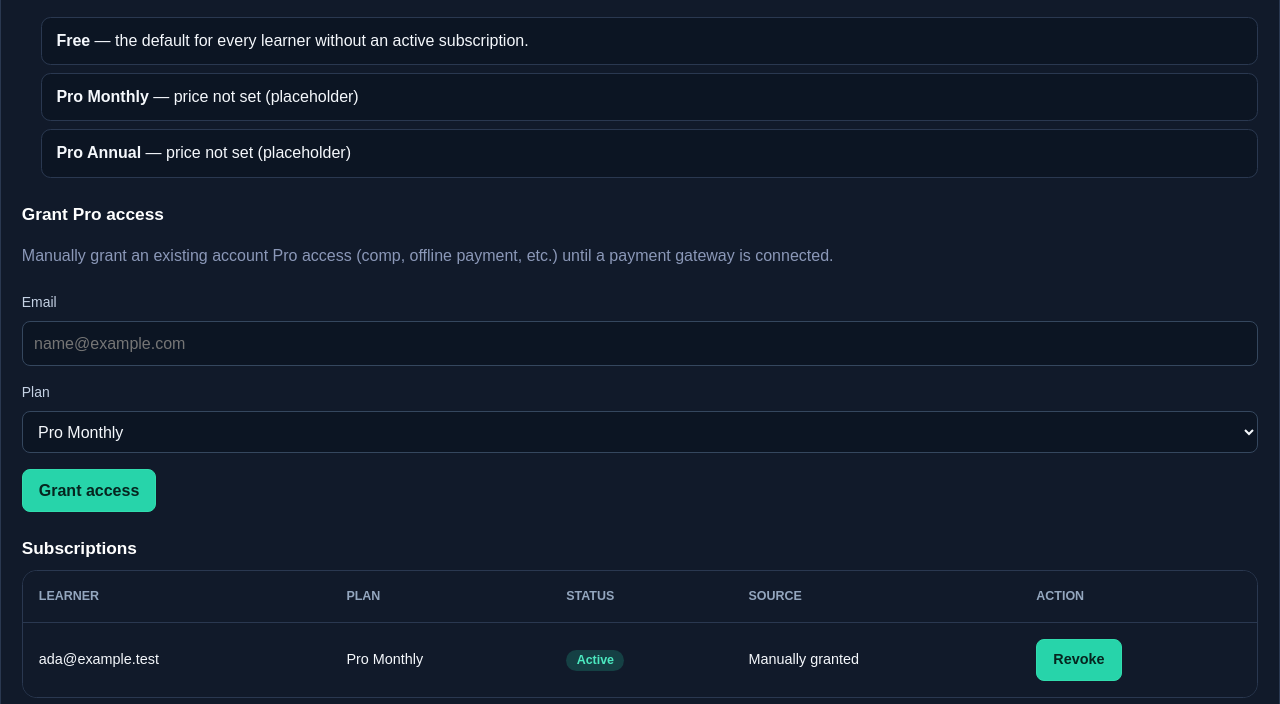
Scenario: BillingManager › lists an active subscription with a revoke action
The image size is (1280, 704).
(page scrolled)
Expected: the text "ada@example.test" is shown, [23,623,330,697]
Expected: the text "Active" is shown, [566,650,624,671]
Click the button "Revoke" at (1079, 660), box [1036,639,1122,681]
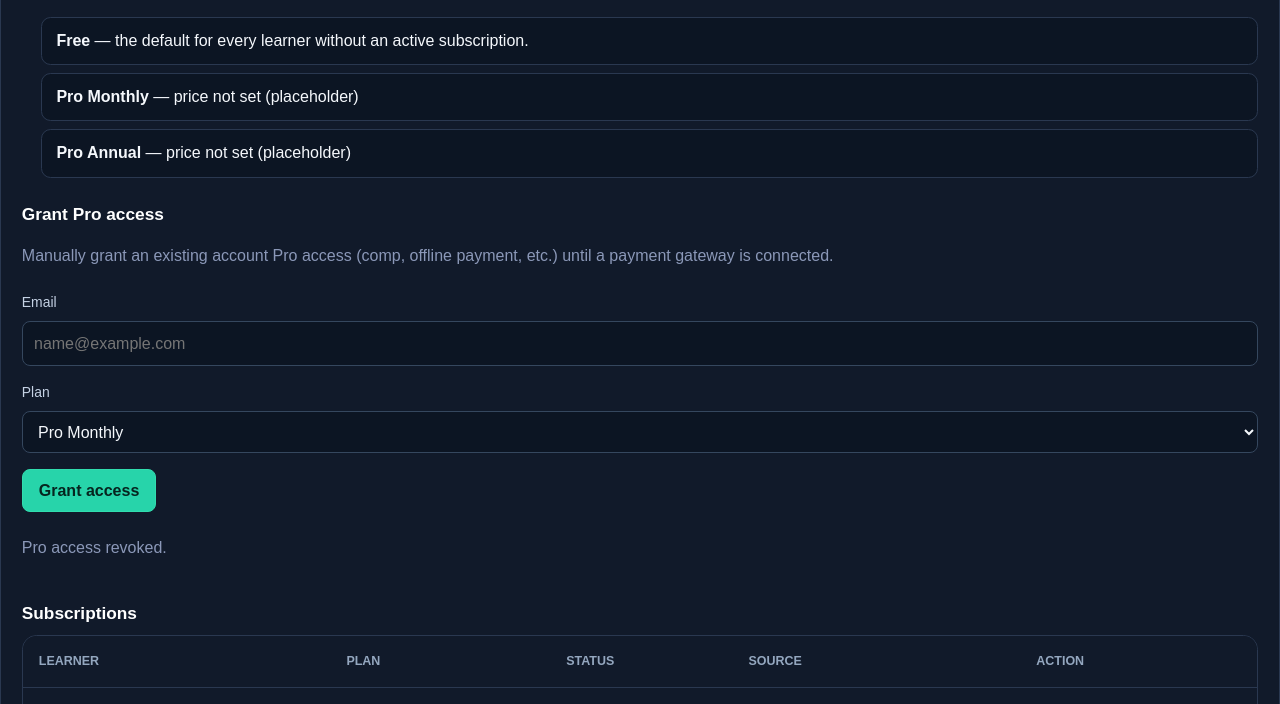
Expected: the message shows "Pro access revoked", [22,540,167,556]
